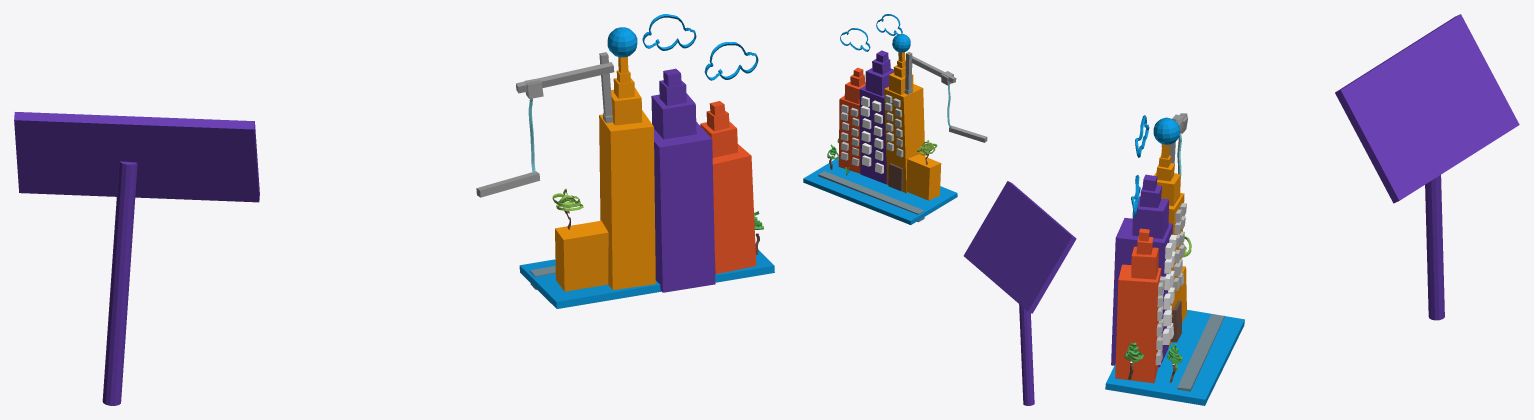
3 renders of one model, left to right at view 1: azimuth 30°, elevation 25°; view 2: azimuth 150°, elevation 25°; view 3: azimuth 270°, elevation 25°, orthographic. The views are drawn at different scales.
Parts seen in each view (by area): view 1: group_643358239, group_1280279435, group_1246322904, group_261000972, mesh_211107444, mesh_1651374692, mesh_235696342, mesh_775521539, mesh_1500355792; view 2: group_643358239, group_1246322904, mesh_1651374692, group_1280279435, group_261000972, mesh_211107444, mesh_1778478703, mesh_844457230, mesh_235696342, mesh_775521539, mesh_1500355792, mesh_1271595529; view 3: group_643358239, group_261000972, mesh_1651374692, group_1280279435, group_1246322904, mesh_1778478703, mesh_775521539.
Part boxes in pixels (x1,y1,x2,y2): group_643358239: (14, 112, 259, 405); group_1280279435: (651, 68, 715, 292); group_1246322904: (599, 70, 655, 289); group_261000972: (700, 101, 756, 274); mesh_211107444: (555, 220, 608, 291); mesh_1651374692: (519, 250, 774, 308); mesh_235696342: (516, 62, 614, 93); mesh_775521539: (607, 27, 637, 57); mesh_1500355792: (476, 171, 540, 197); group_643358239: (963, 181, 1076, 405); group_1246322904: (884, 60, 925, 193); mesh_1651374692: (803, 157, 957, 224); group_1280279435: (859, 50, 893, 184); group_261000972: (838, 67, 865, 173); mesh_211107444: (906, 154, 941, 200); mesh_1778478703: (818, 171, 924, 222); mesh_844457230: (888, 163, 903, 191); mesh_235696342: (911, 56, 956, 83); mesh_775521539: (892, 33, 910, 52); mesh_1500355792: (949, 125, 987, 142); mesh_1271595529: (905, 52, 912, 90); group_643358239: (1335, 14, 1519, 320); group_261000972: (1115, 228, 1165, 383); mesh_1651374692: (1105, 310, 1244, 405); group_1280279435: (1111, 174, 1176, 367); group_1246322904: (1154, 155, 1186, 346); mesh_1778478703: (1177, 314, 1224, 391); mesh_775521539: (1153, 117, 1179, 144).
Bounding box in the file's own units: 182 × 124 × 126.
